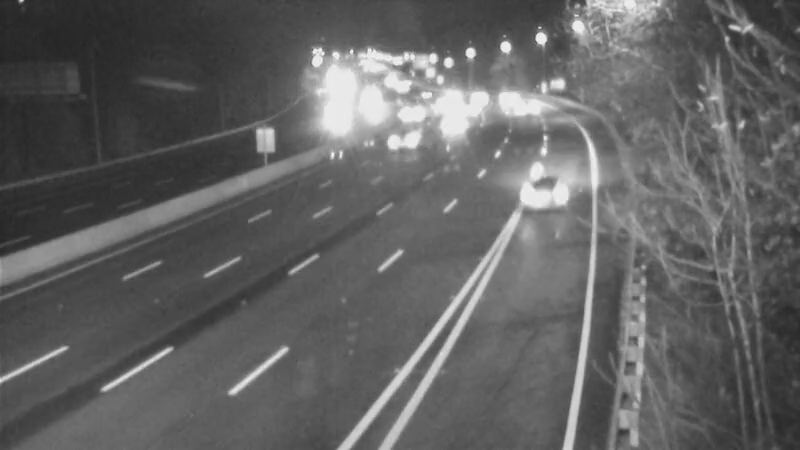vehicle: (503, 153, 583, 233), (399, 71, 449, 121), (428, 68, 478, 118), (478, 72, 528, 122), (452, 74, 502, 124), (418, 81, 468, 131), (503, 80, 553, 130), (436, 89, 486, 139), (379, 84, 429, 134), (427, 101, 477, 151), (378, 114, 428, 164), (315, 86, 365, 136)
